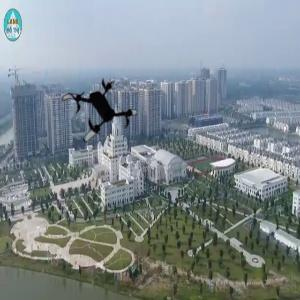drone: (59, 74, 137, 152)
